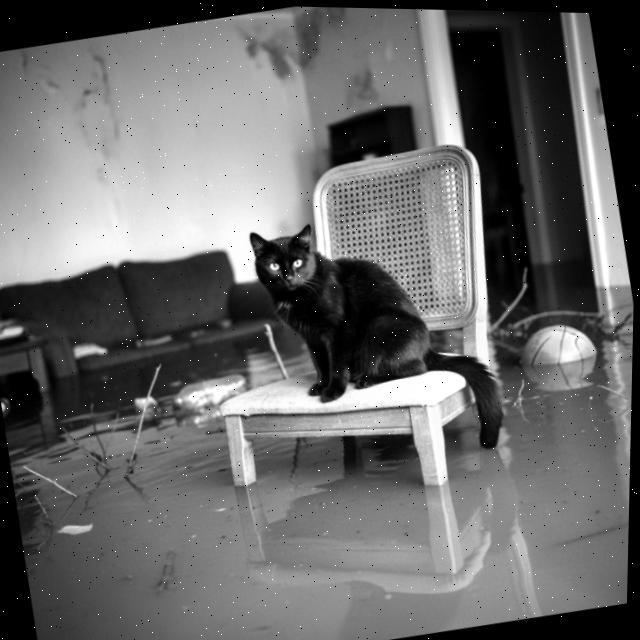cat: (229, 185, 527, 498)
